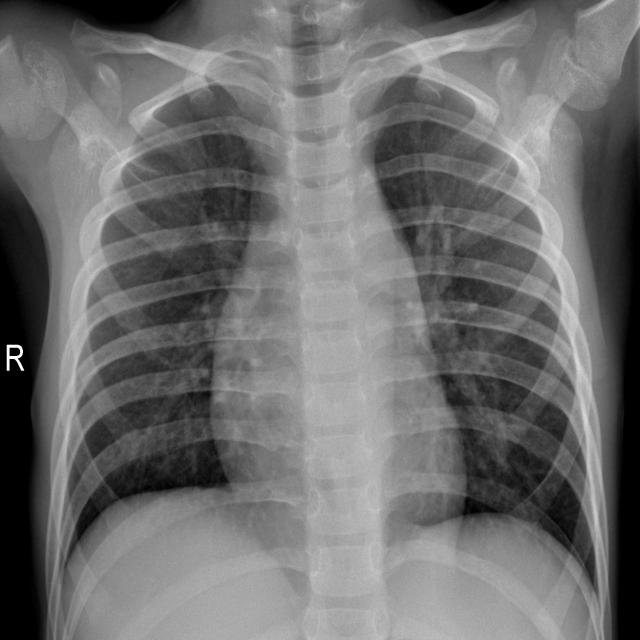no-pneumonia: (371, 74, 609, 610), (49, 77, 268, 584)
